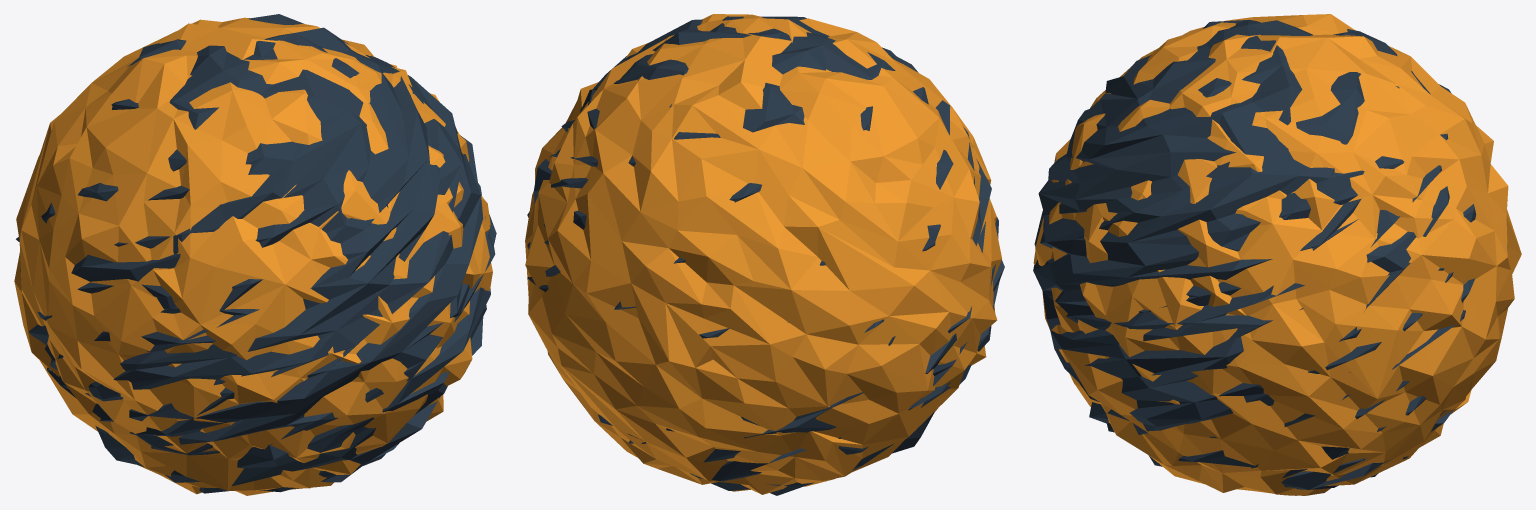
File: AW_Planet.fbx
3 renders of one model, left to right at view 1: azimuth 30°, elevation 25°; view 2: azimuth 150°, elevation 25°; view 3: azimuth 270°, elevation 25°, orthographic.
Visible parts, largest first — view 1: AW_Planet; view 2: AW_Planet; view 3: AW_Planet.
Boxes of the visible parts, box(x1,y1,x2,y2) form: AW_Planet: box(14, 14, 496, 495); AW_Planet: box(525, 14, 1004, 495); AW_Planet: box(1033, 14, 1521, 495).
Bounding box in the file's own units: 1037 × 1021 × 1036.
Materials: 1 (1 with a texture image).
